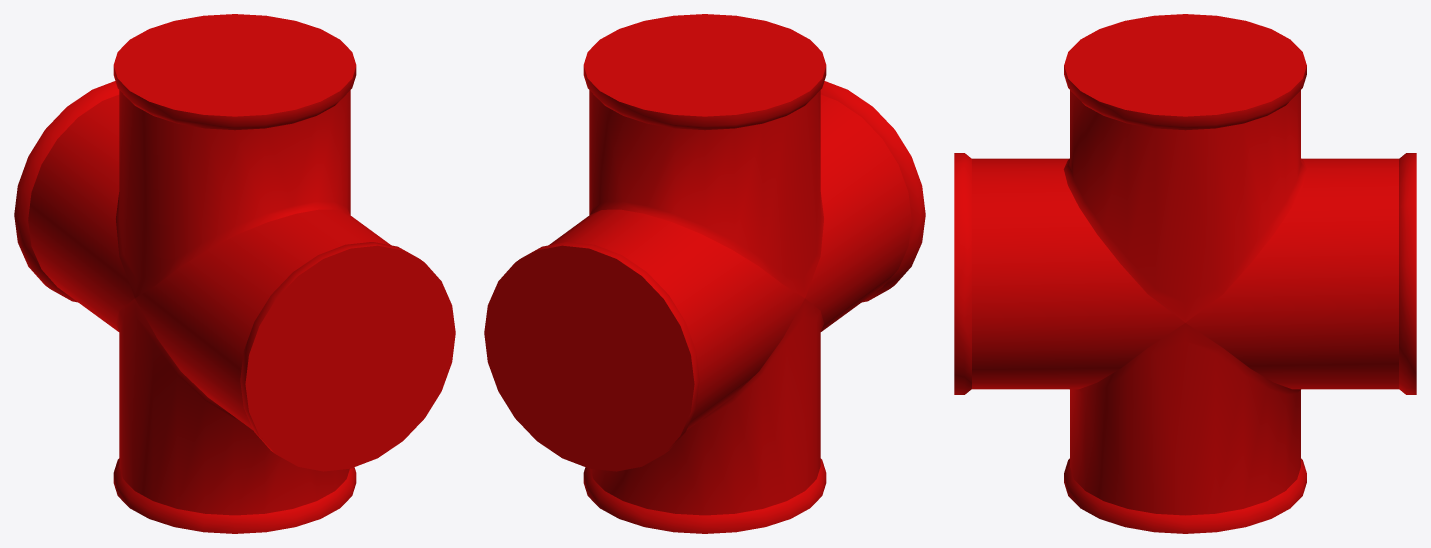
The picture shows the model from 3 angles, left to right: view 1: azimuth 30°, elevation 25°; view 2: azimuth 150°, elevation 25°; view 3: azimuth 270°, elevation 25°; orthographic projection.
Visible parts, largest first — view 1: Mesh; view 2: Mesh; view 3: Mesh.
Boxes of the visible parts, x1,y1,x2,y2 form: Mesh: (14, 14, 455, 533); Mesh: (484, 14, 925, 533); Mesh: (954, 14, 1416, 533).
Bounding box in the file's own units: 0.4202 × 0.7966 × 0.8.
